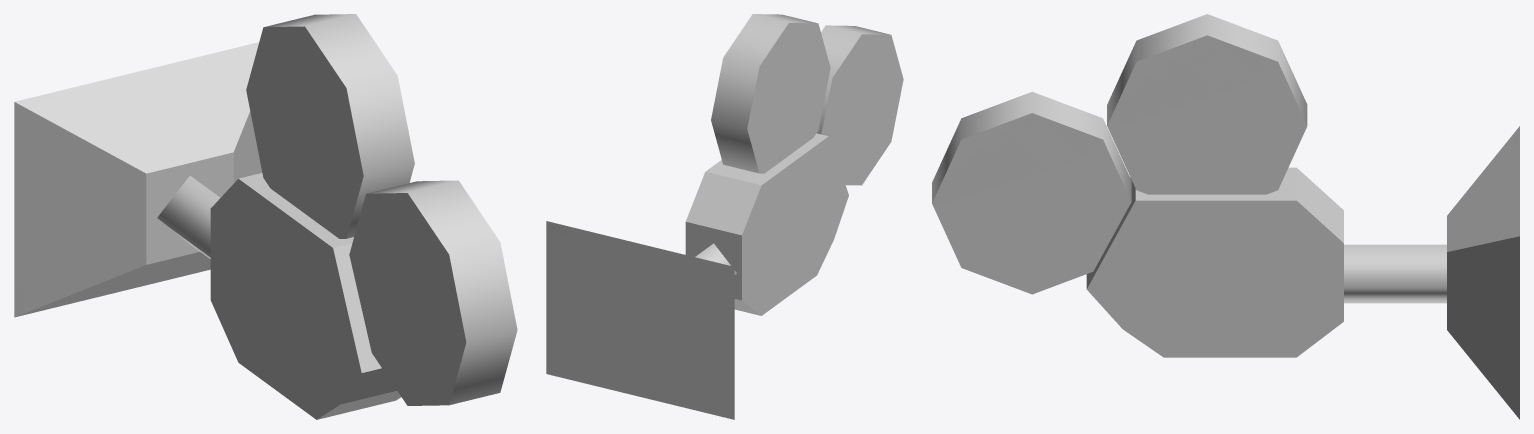
Rendered from camera.fbx.
3 views of the same model, side by side, from view 1: azimuth 30°, elevation 25°; view 2: azimuth 150°, elevation 25°; view 3: azimuth 270°, elevation 25° (orthographic). The views are drawn at different scales.
Visible parts, largest first — view 1: Box001; view 2: Box001; view 3: Box001.
Part boxes in pixels (x1,y1,x2,y2): Box001: (14,14,517,419); Box001: (546,14,903,419); Box001: (932,14,1519,419).
Size of the model in its own units: 16.34 by 23.48 by 36.78.
1 material, 1 textured.
